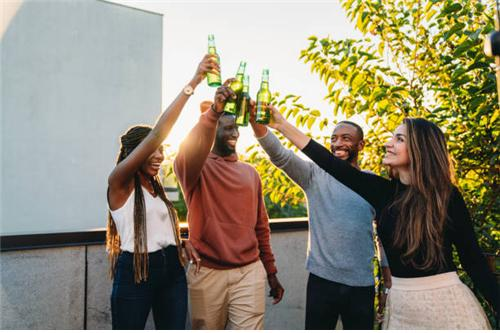alcohol: (223, 61, 244, 114), (255, 66, 272, 126), (234, 76, 252, 125), (206, 36, 220, 87)
